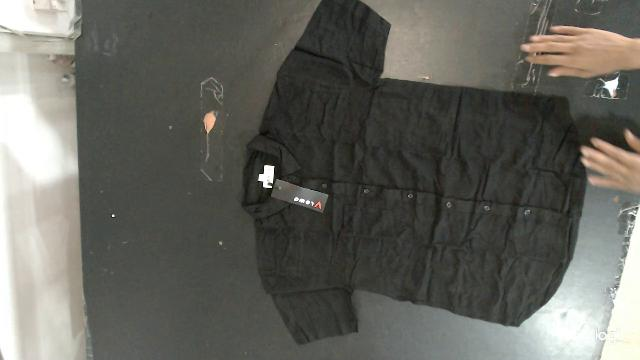new-garment: (243, 0, 586, 344)
